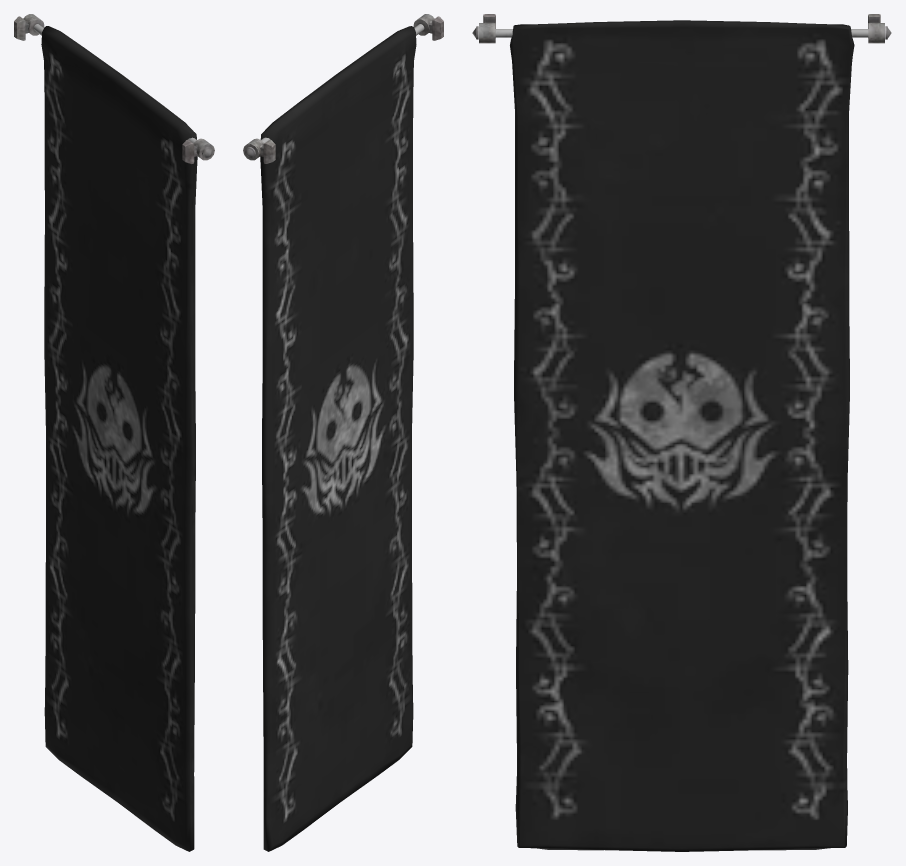
Rendered from SM_GroupBanner_00_3e8460.glb.
3 renders of one model, left to right at view 1: azimuth 30°, elevation 25°; view 2: azimuth 150°, elevation 25°; view 3: azimuth 270°, elevation 25°, orthographic. The views are drawn at different scales.
Size of the model in its own units: 0.2476 by 6.53 by 2.99.
1 material, 1 textured.
